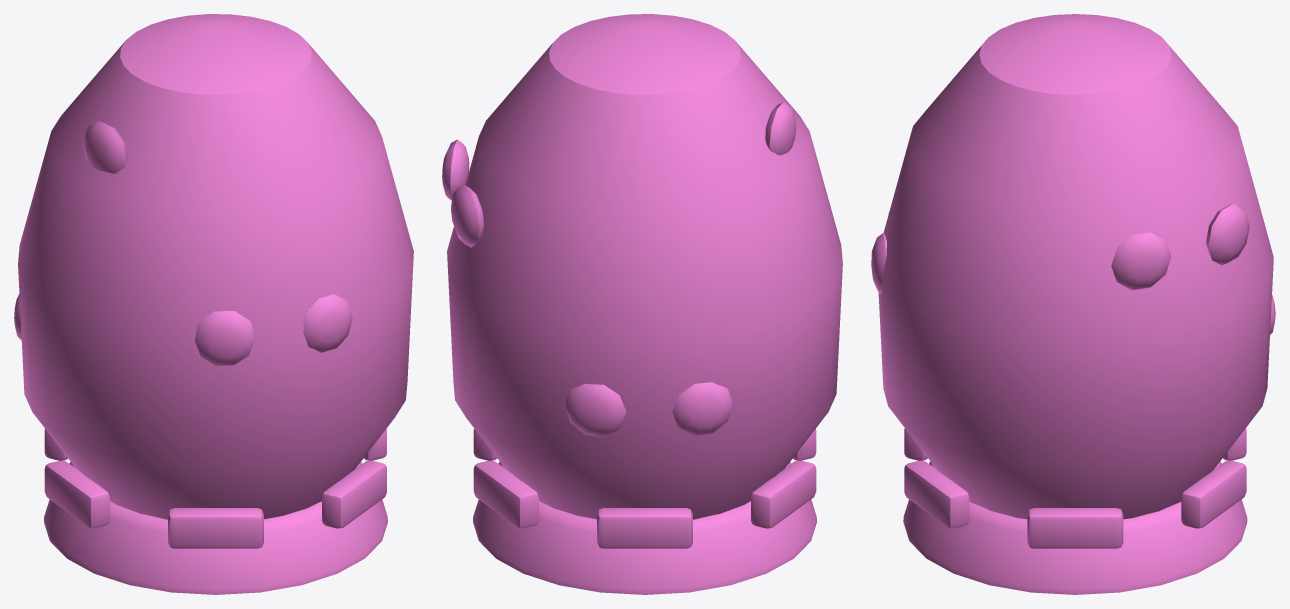
File: Parcel_AlienEgg.fbx
The picture shows the model from 3 angles, left to right: view 1: azimuth 30°, elevation 25°; view 2: azimuth 150°, elevation 25°; view 3: azimuth 270°, elevation 25°; orthographic projection.
Parts seen in each view (by area): view 1: Parcel; view 2: Parcel; view 3: Parcel.
Part boxes in pixels (x1=…): Parcel: x1=14, y1=14, x2=413, y2=594; Parcel: x1=442, y1=14, x2=842, y2=594; Parcel: x1=871, y1=14, x2=1275, y2=594.
Bounding box in the file's own units: 1.24 × 1.72 × 1.26.
1 material, 1 textured.
